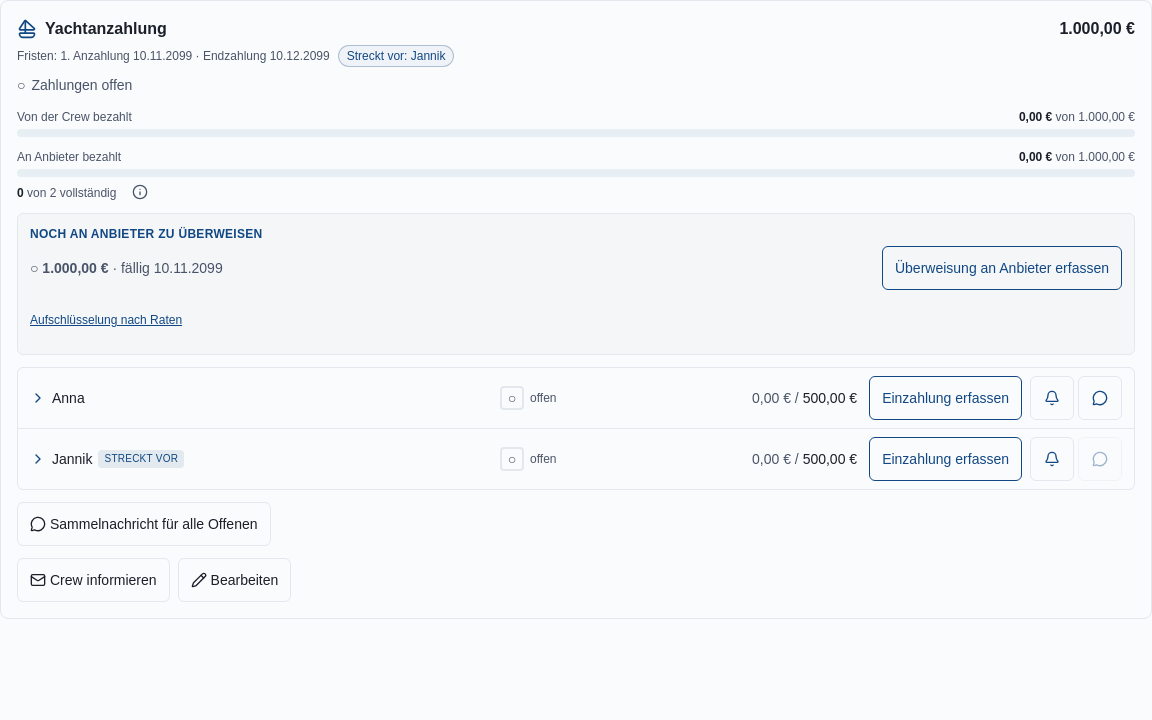
Anzahlungsplan: Personenliste › Zeilen-Knopf bei mehreren offenen Raten fragt „Welche Rate?“ und öffnet dann die gewählte
Click the 1st button "Einzahlung erfassen" at x=946, y=398, box [869,376,1022,420]
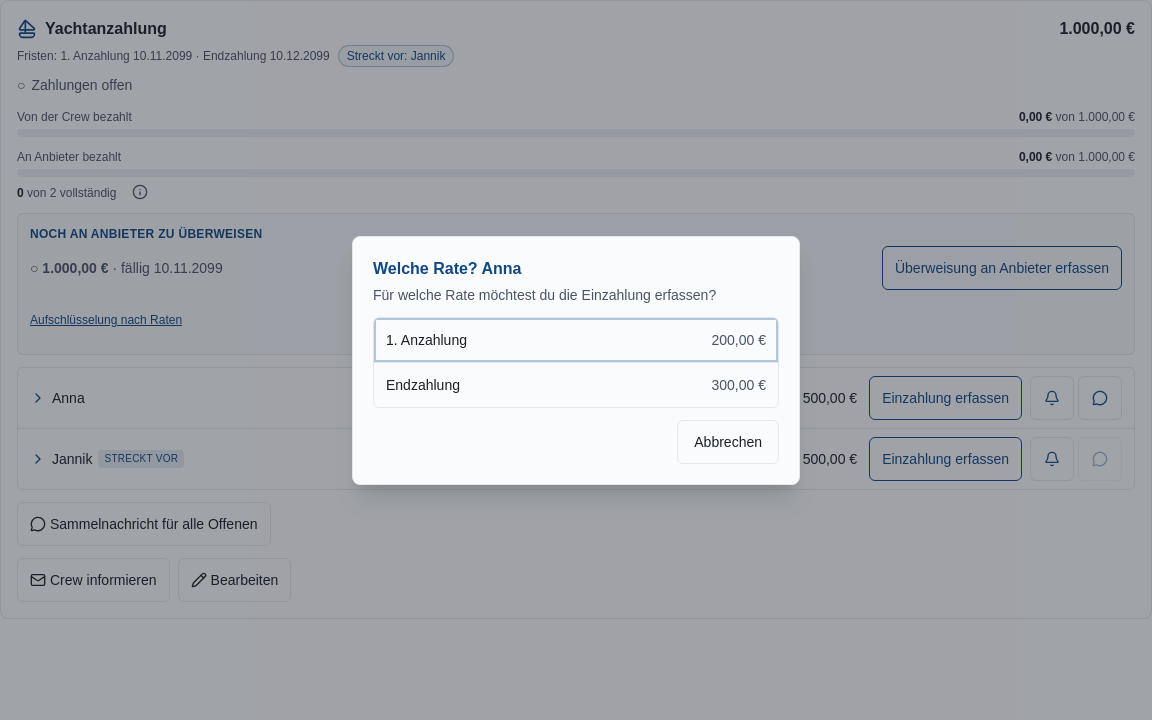
Check: the text "Welche Rate? Anna" is shown, box [373,260,522,276]
Check: the button "Endzahlung 300,00 €" is shown
Click the button "Endzahlung 300,00 €" at x=423, y=384, box [374,362,778,406]
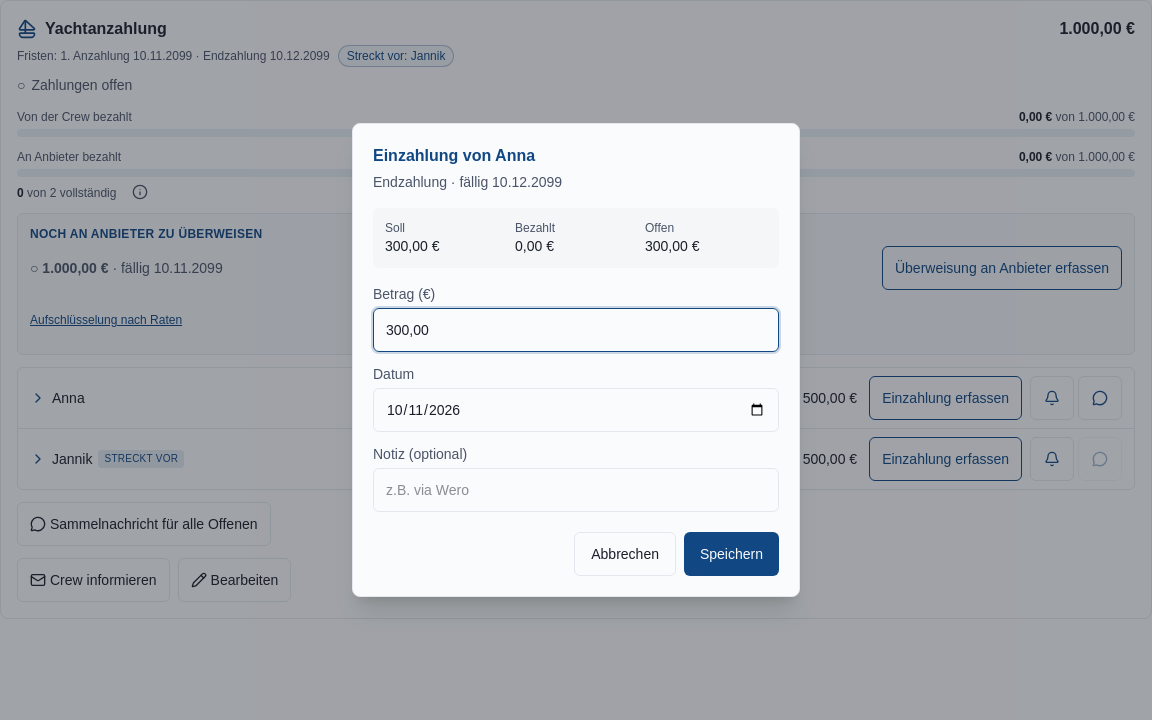
Check: the text "Einzahlung von Anna" is shown, box [373,147,535,164]
Check: the text "Endzahlung · fällig" is shown, box [373,174,562,190]
